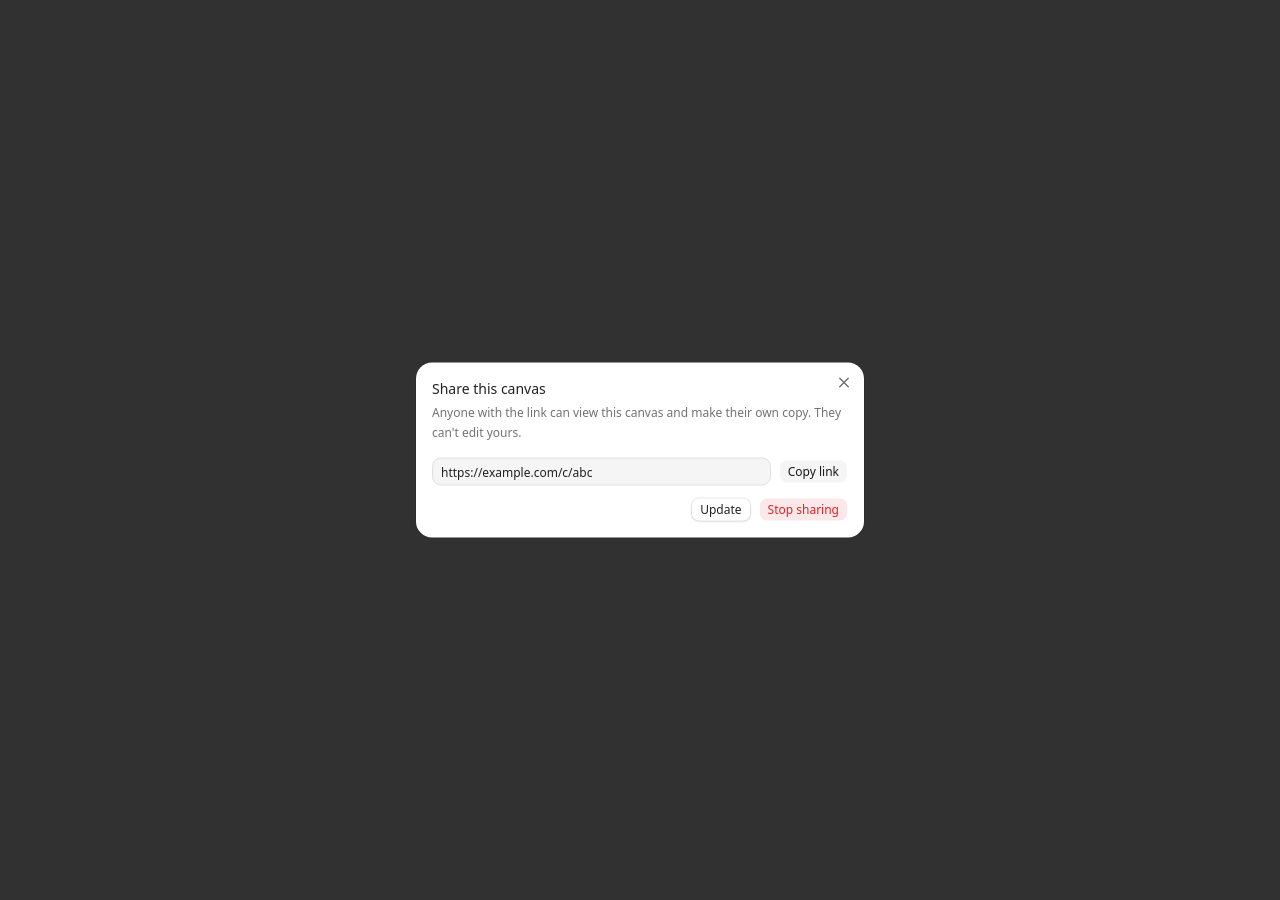
<ShareDialog /> › returns to idle after Stop sharing
Click the button "Stop sharing" at {"x": 803, "y": 510}, box [759,498,848,522]
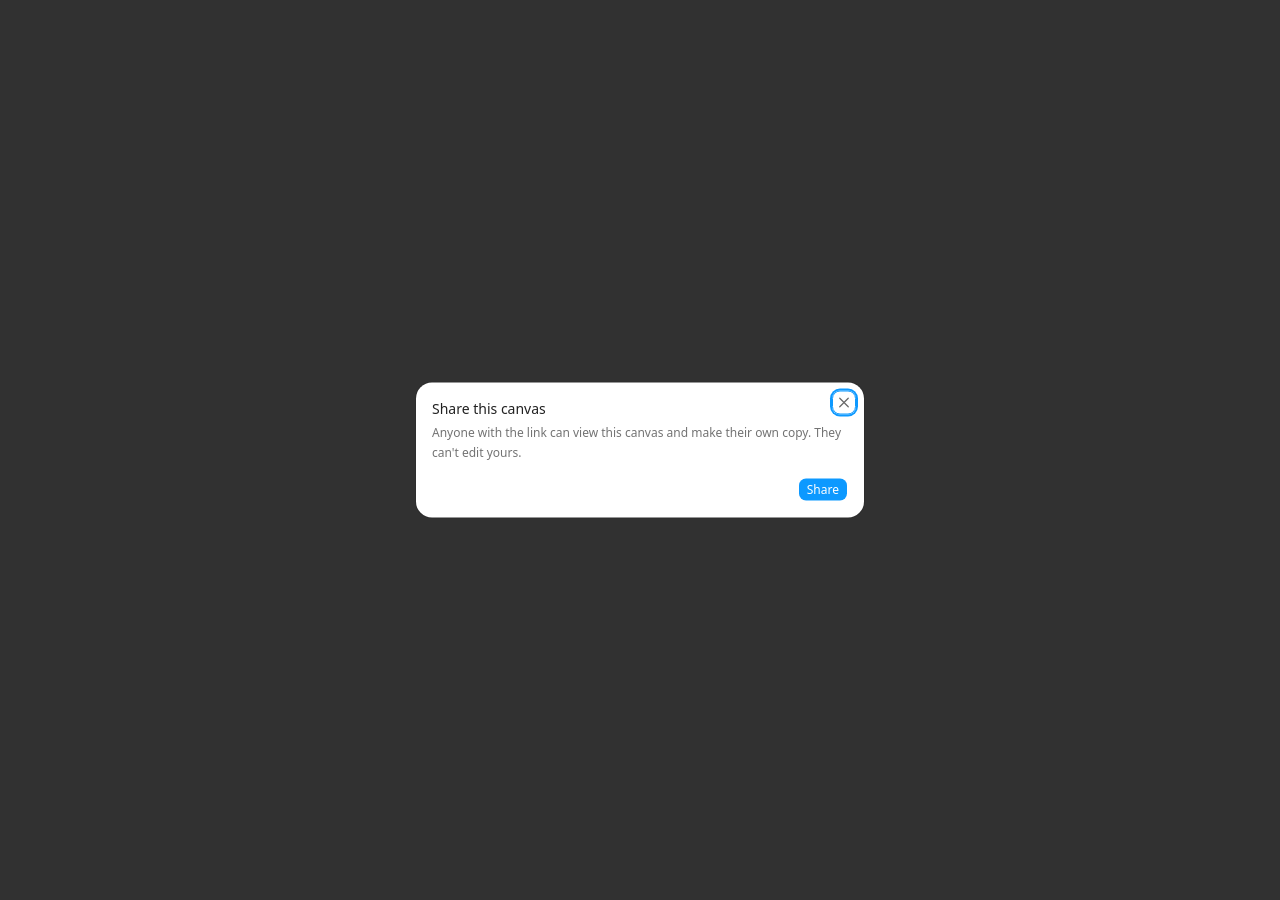
Check: the button "Share" is shown, box [798,478,848,502]
